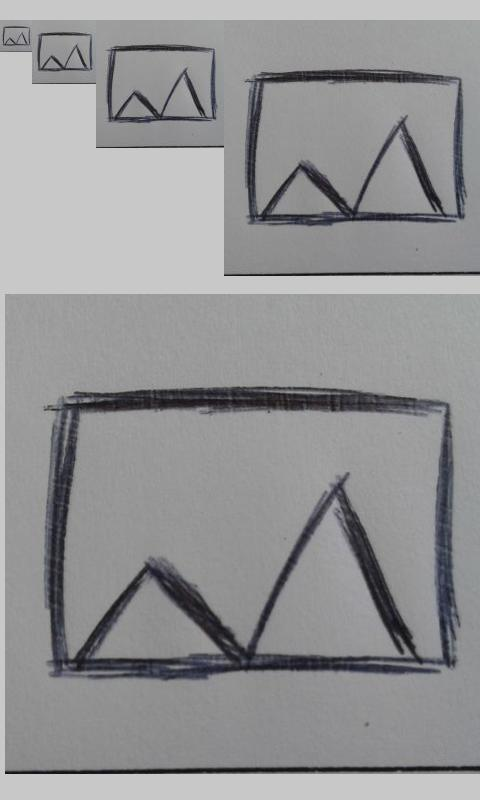image_view: (44, 390, 457, 679), (242, 68, 468, 226), (107, 45, 216, 123), (37, 32, 93, 72), (2, 26, 31, 46)
